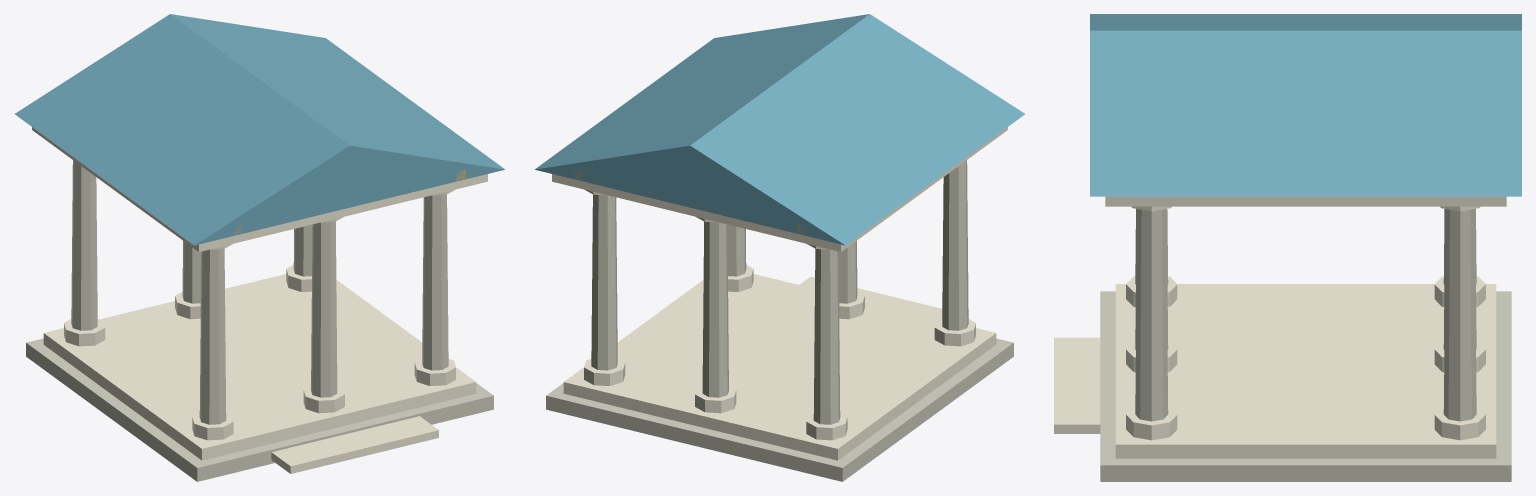
Rendered from tidal-star-reading-hall__251.glb.
3 renders of one model, left to right at view 1: azimuth 30°, elevation 25°; view 2: azimuth 150°, elevation 25°; view 3: azimuth 270°, elevation 25°, orthographic. The views are drawn at different scales.
Parts seen in each view (by area): view 1: tidal-observatory-star-reading-hall; view 2: tidal-observatory-star-reading-hall; view 3: tidal-observatory-star-reading-hall.
Boxes of the visible parts, x1,y1,x2,y2 form: tidal-observatory-star-reading-hall: (15,14,504,481); tidal-observatory-star-reading-hall: (535,14,1024,481); tidal-observatory-star-reading-hall: (1054,14,1521,481).
Bounding box in the file's own units: 4.2 × 3.91 × 4.55.
